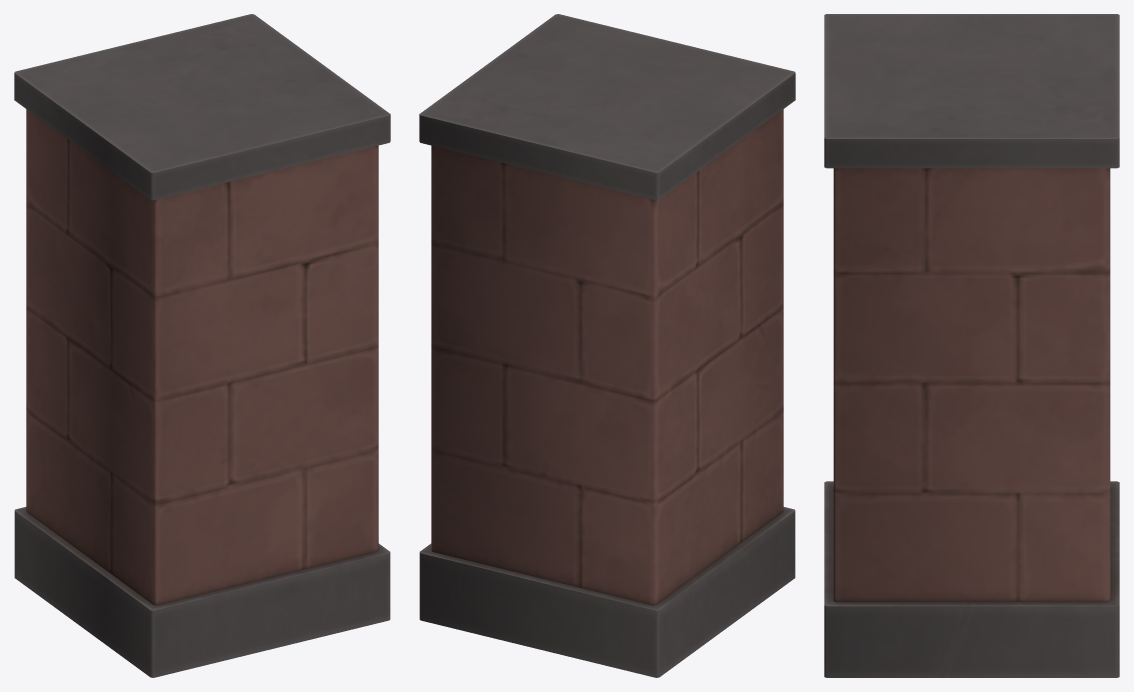
File: SM_Props_Fence_02.glb
The picture shows the model from 3 angles, left to right: view 1: azimuth 30°, elevation 25°; view 2: azimuth 150°, elevation 25°; view 3: azimuth 270°, elevation 25°; orthographic projection. The views are drawn at different scales.
Parts seen in each view (by area): view 1: Fence_02; view 2: Fence_02; view 3: Fence_02.
Part boxes in pixels (x1,y1,x2,y2): Fence_02: (14,14,390,677); Fence_02: (419,14,795,677); Fence_02: (824,14,1119,677).
Bounding box in the file's own units: 0.4516 × 0.9088 × 0.4516.
Materials: 1 (1 with a texture image).
